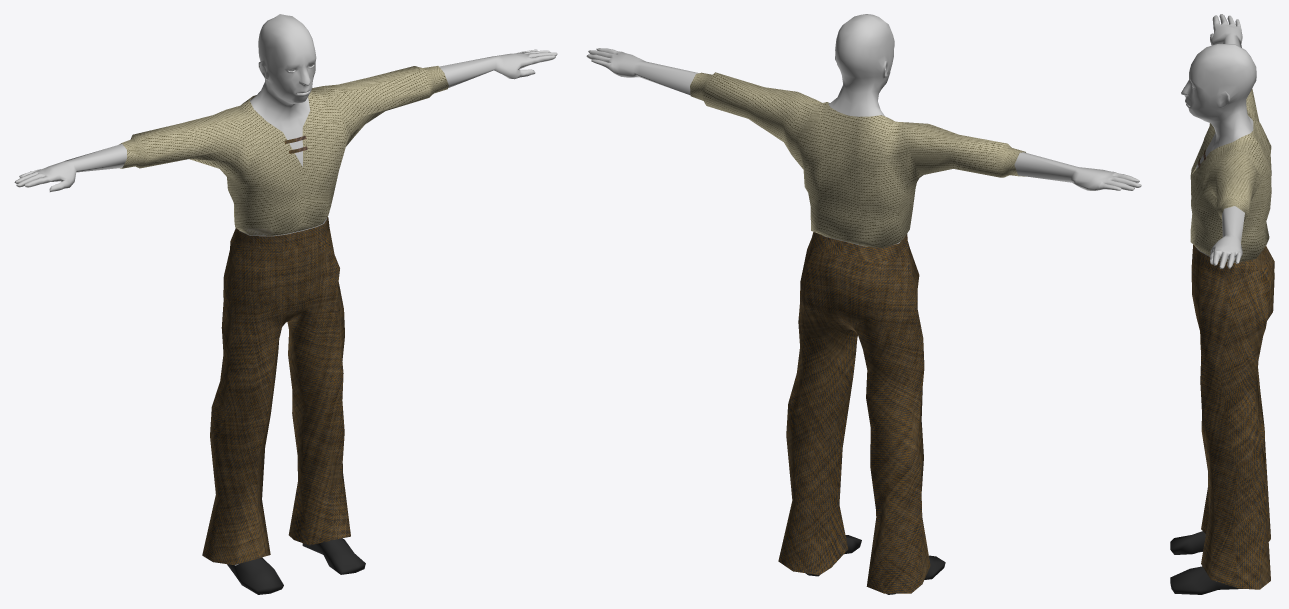
Rendered from Civil_Homem 1.fbx.
3 renders of one model, left to right at view 1: azimuth 30°, elevation 25°; view 2: azimuth 150°, elevation 25°; view 3: azimuth 270°, elevation 25°, orthographic. The views are drawn at different scales.
Visible parts, largest first — view 1: Sapato, male1591Mesh; view 2: Sapato, male1591Mesh; view 3: Sapato, male1591Mesh.
Boxes of the visible parts, left/top/right/bottom form: Sapato: left=119, top=66, right=448, bottom=594; male1591Mesh: left=14, top=14, right=557, bottom=565; Sapato: left=690, top=72, right=1025, bottom=594; male1591Mesh: left=586, top=14, right=1141, bottom=246; Sapato: left=1170, top=89, right=1274, bottom=594; male1591Mesh: left=1181, top=14, right=1256, bottom=268.
Size of the model in its own units: 693 by 668 by 121.
